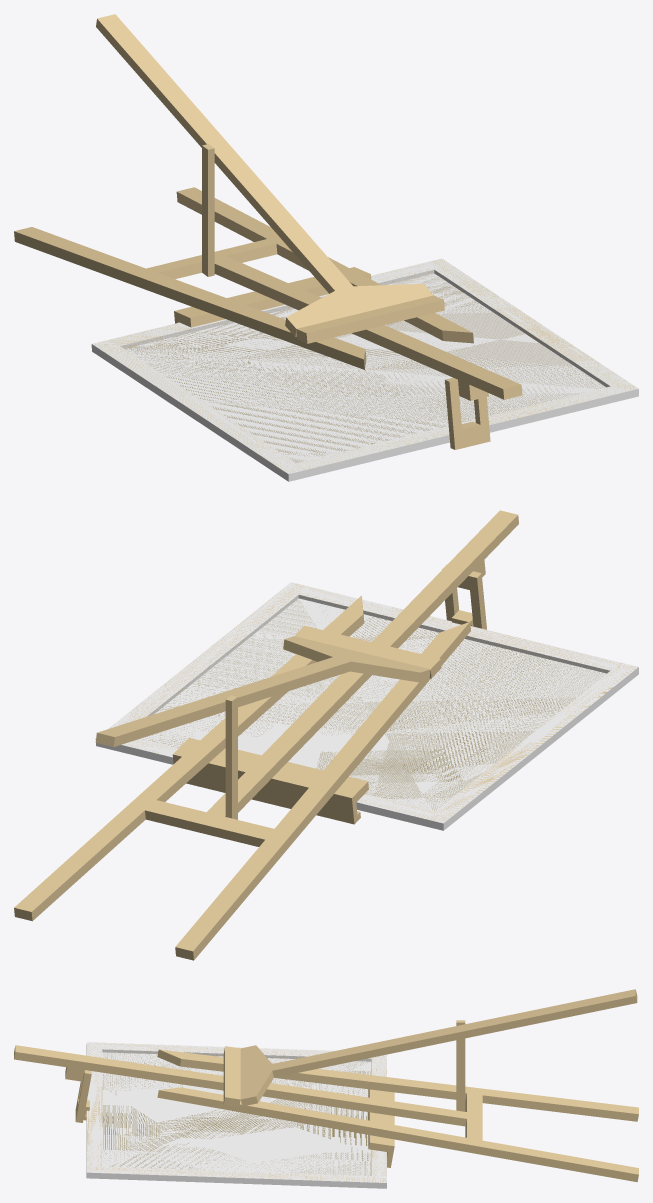
The picture shows the model from 3 angles, top to bottom: view 1: azimuth 30°, elevation 25°; view 2: azimuth 150°, elevation 25°; view 3: azimuth 270°, elevation 25°; orthographic projection. The views are drawn at different scales.
Parts seen in each view (by area): view 1: easel; view 2: easel; view 3: easel.
Boxes of the visible parts, x1=… form: easel: x1=14, y1=14, x2=638, y2=481; easel: x1=14, y1=510, x2=638, y2=960; easel: x1=14, y1=989, x2=638, y2=1188.
Size of the model in its own units: 38.61 by 21.53 by 78.15.
